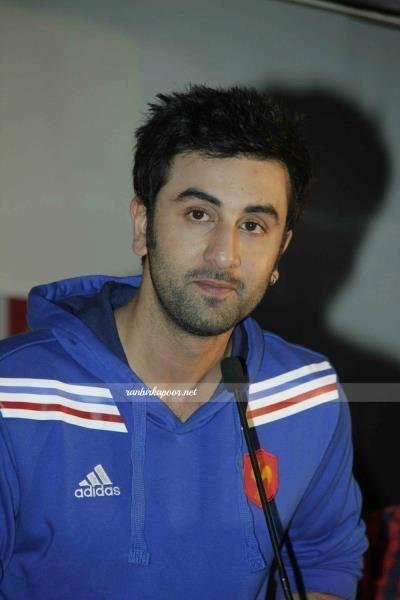No Mask: (88, 69, 363, 426)
